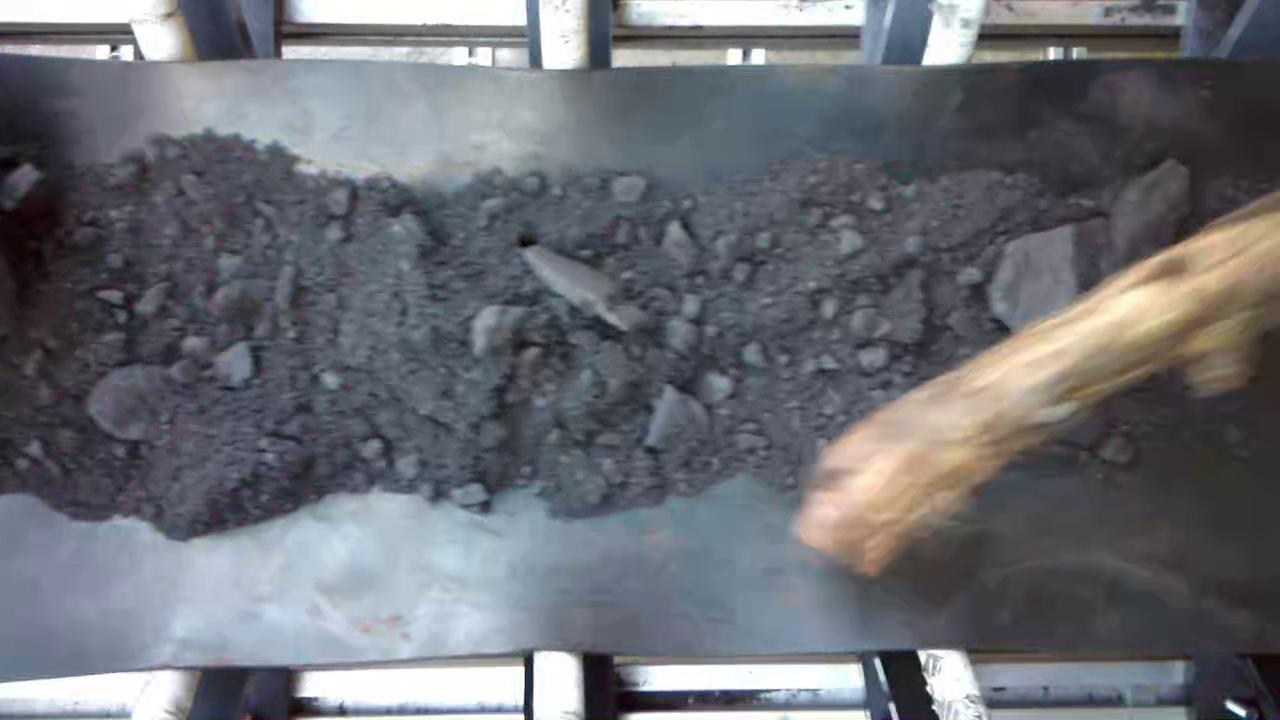conveyor: (5, 75, 1280, 645)
